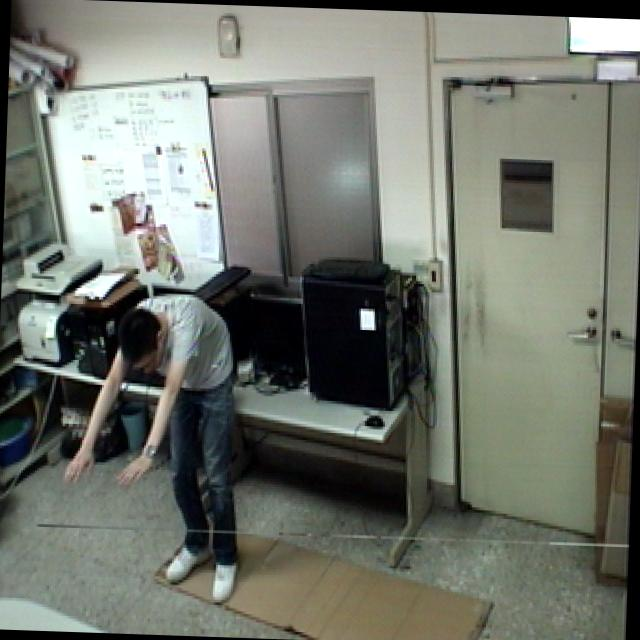bend: (52, 282, 257, 608)
